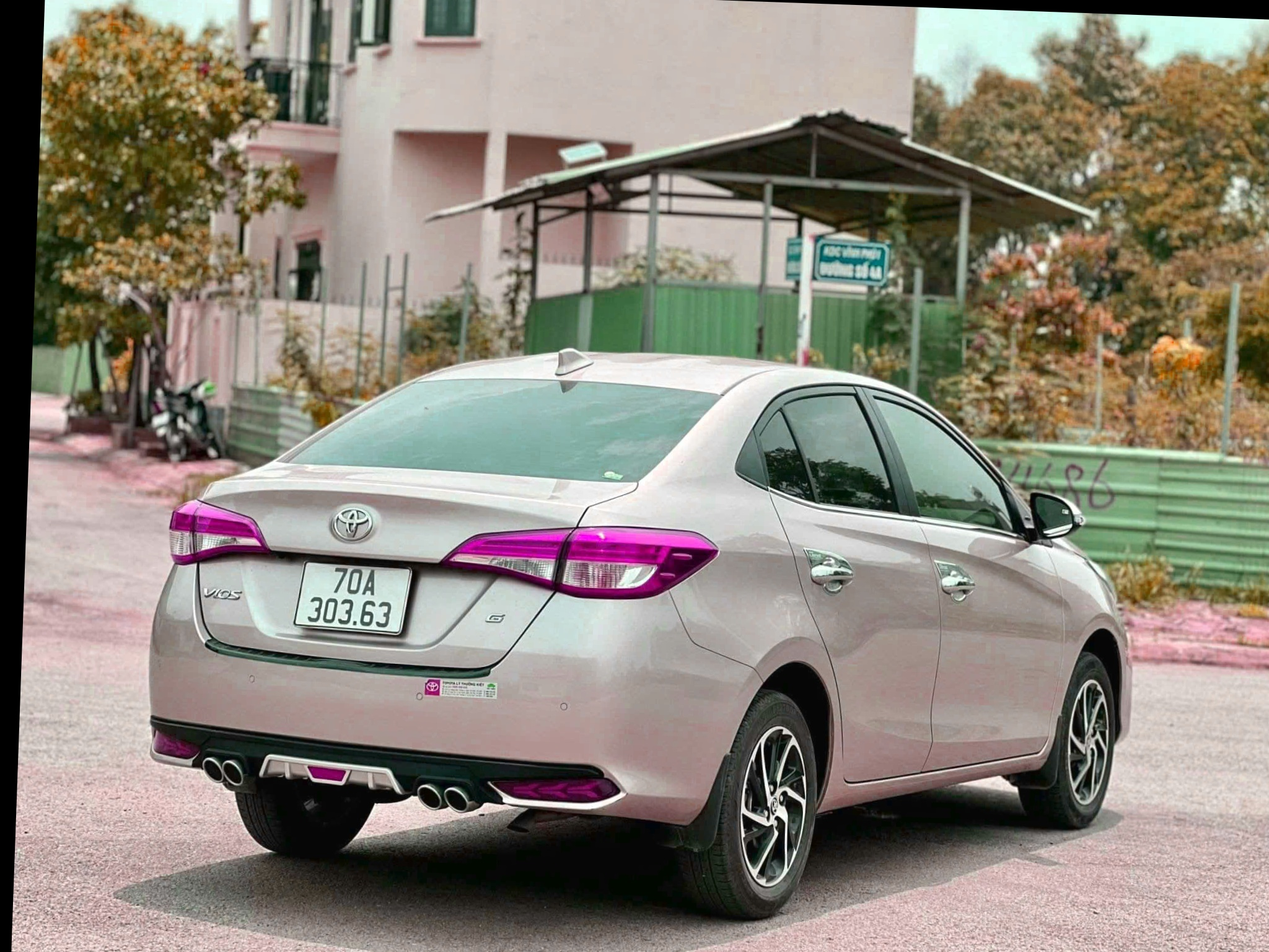Bien-so: (270, 538, 390, 625)
